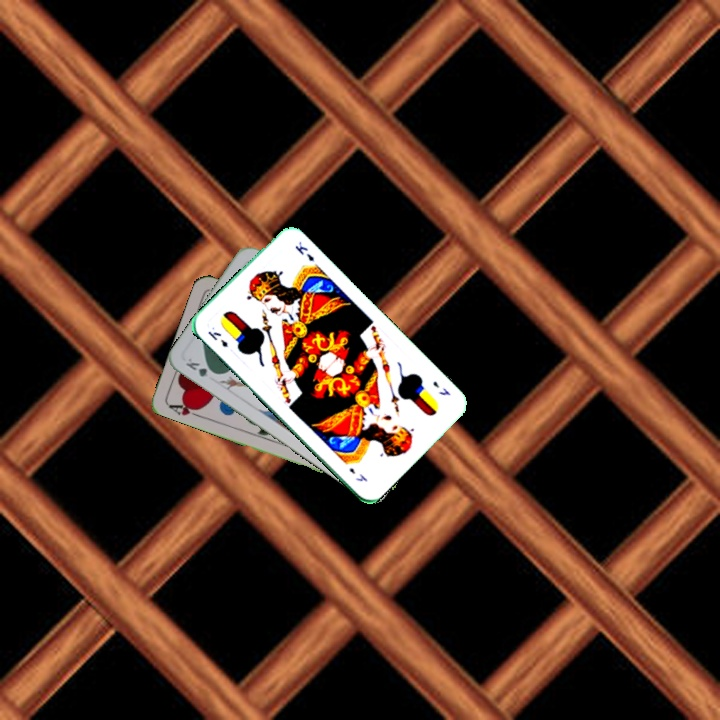EK: (204, 327, 230, 350), (429, 377, 453, 398)
GK: (181, 354, 220, 379)
HA: (165, 398, 204, 420)
